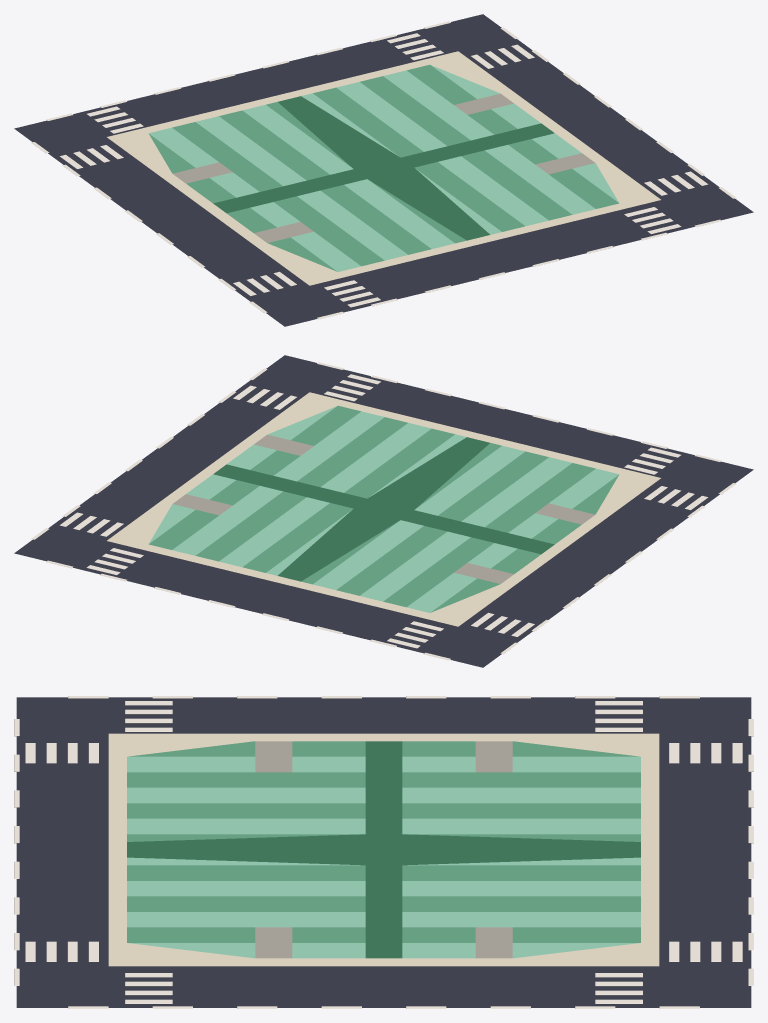
Rendered from tile_residential.glb.
3 views of the same model, one above another, from view 1: azimuth 30°, elevation 25°; view 2: azimuth 150°, elevation 25°; view 3: azimuth 270°, elevation 25° (orthographic). The views are drawn at different scales.
Visible parts, largest first — view 1: tile_residential; view 2: tile_residential; view 3: tile_residential.
Part boxes in pixels (bbox=[...]): tile_residential: bbox=[14, 14, 753, 326]; tile_residential: bbox=[14, 355, 753, 667]; tile_residential: bbox=[14, 696, 753, 1008].
Size of the model in its own units: 40.3 by 0.1722 by 40.3.
Materials: 1 (1 with a texture image).
